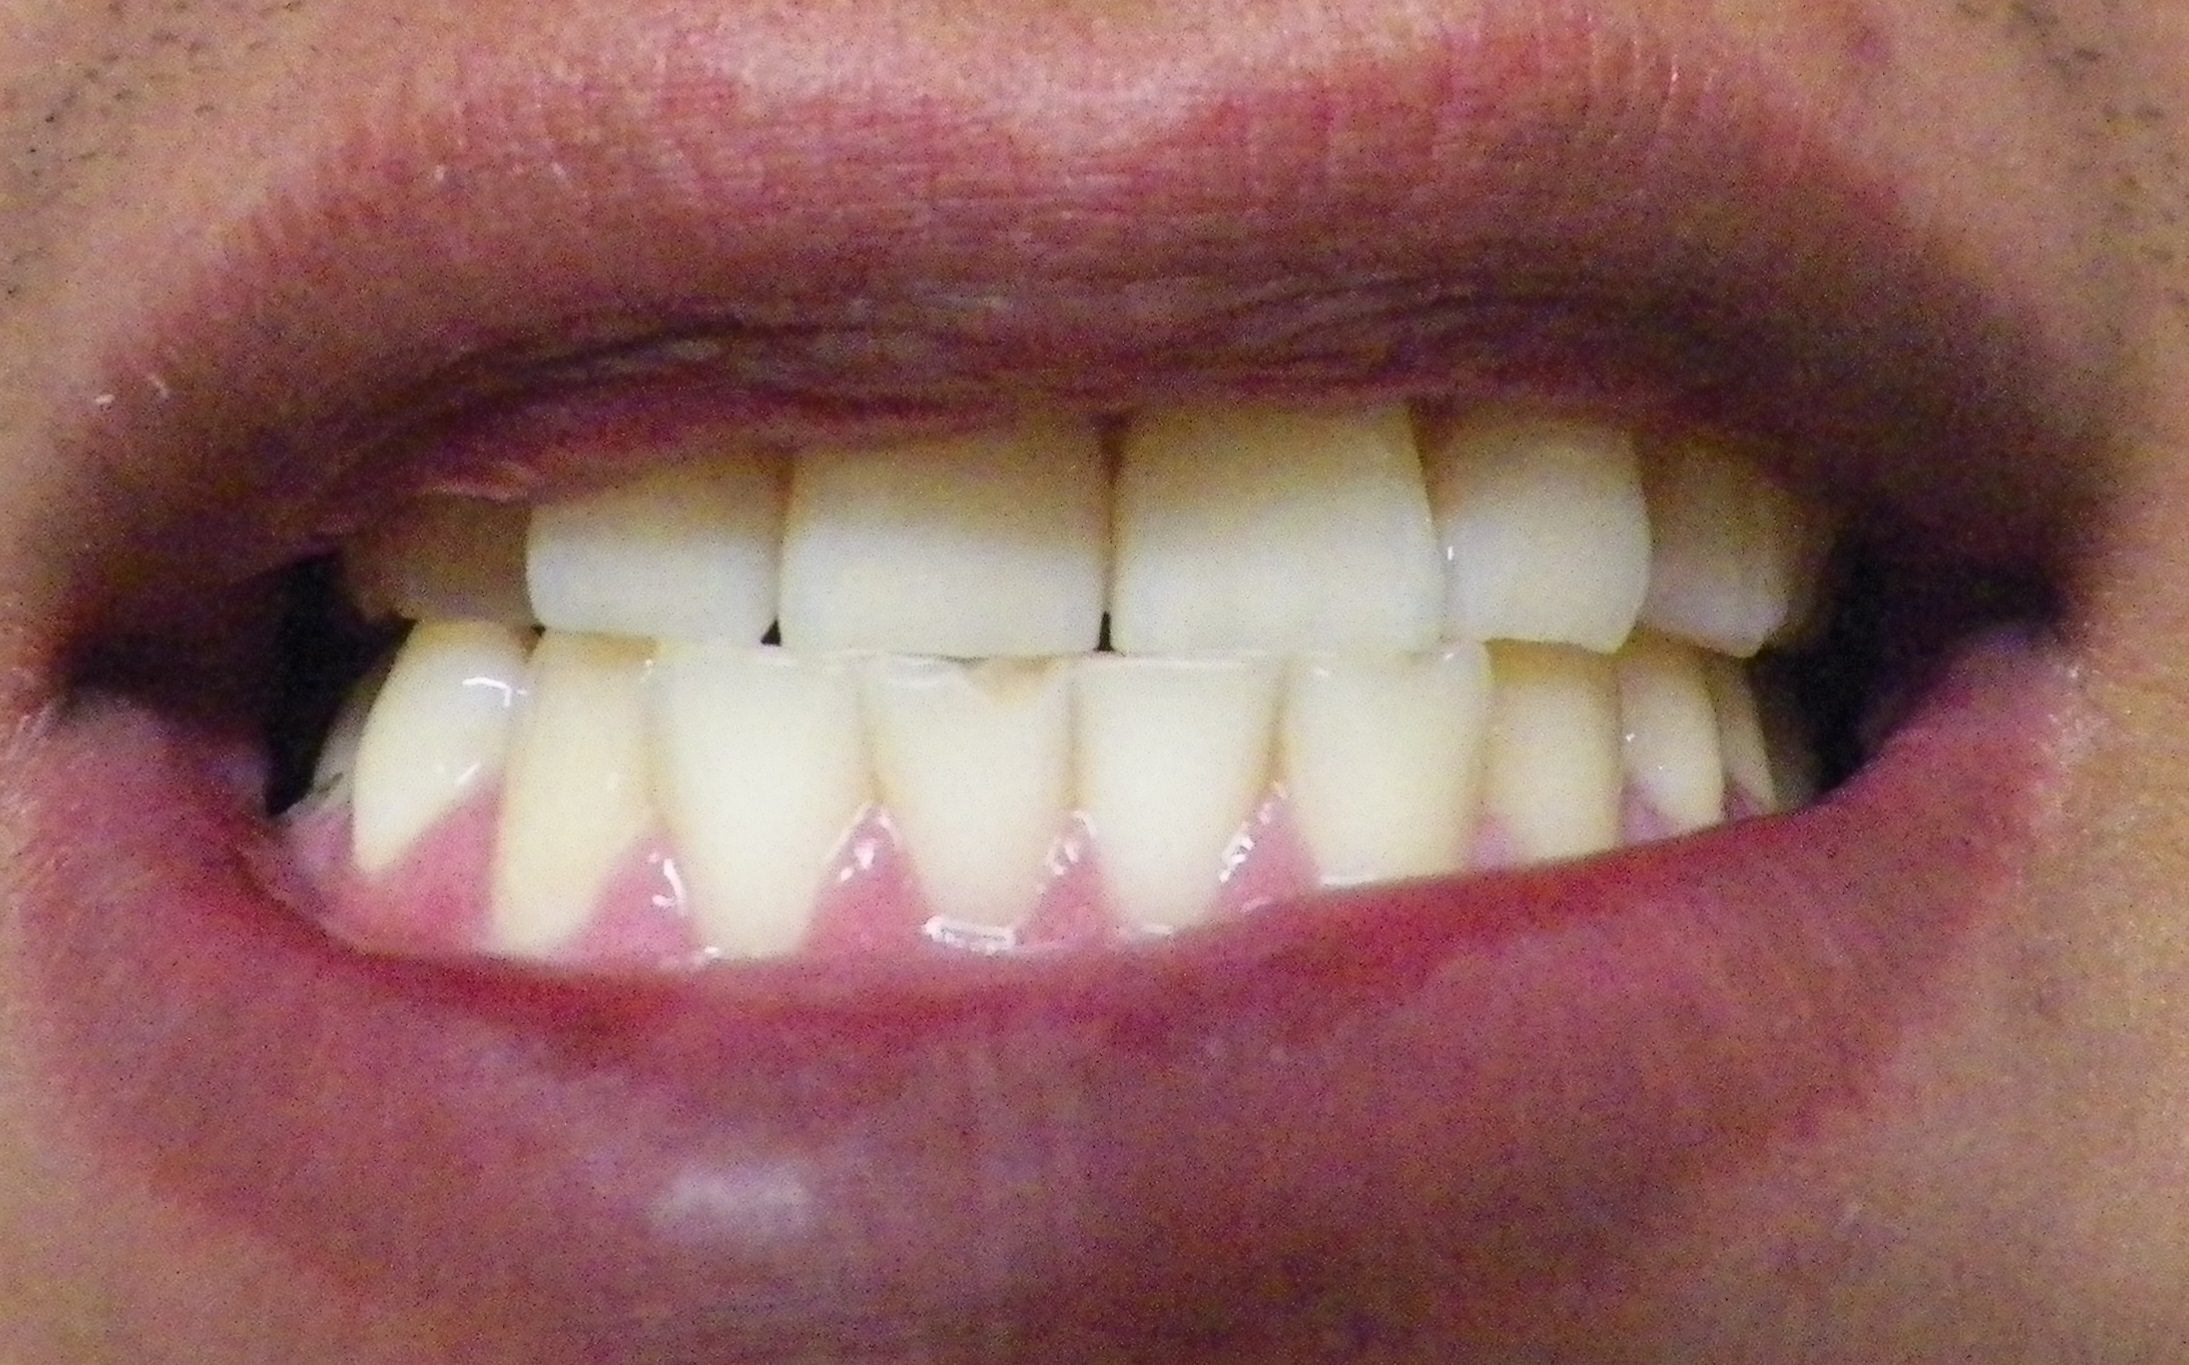boca: (288, 414, 1819, 947)
